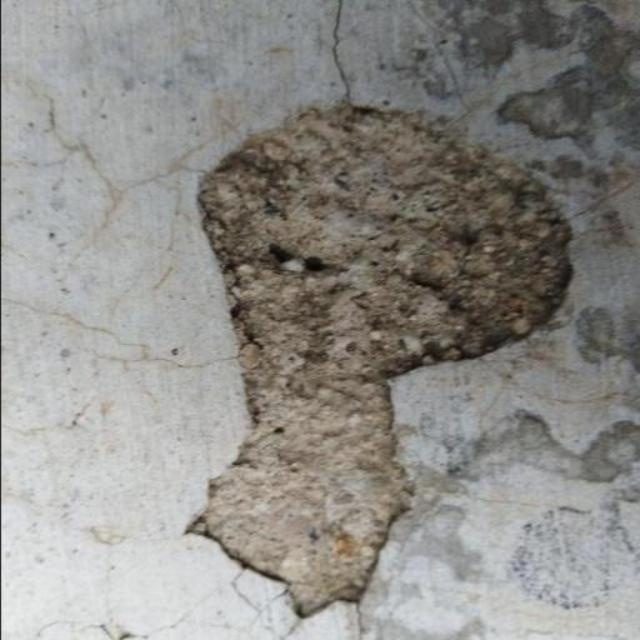D10: (190, 94, 574, 618)
